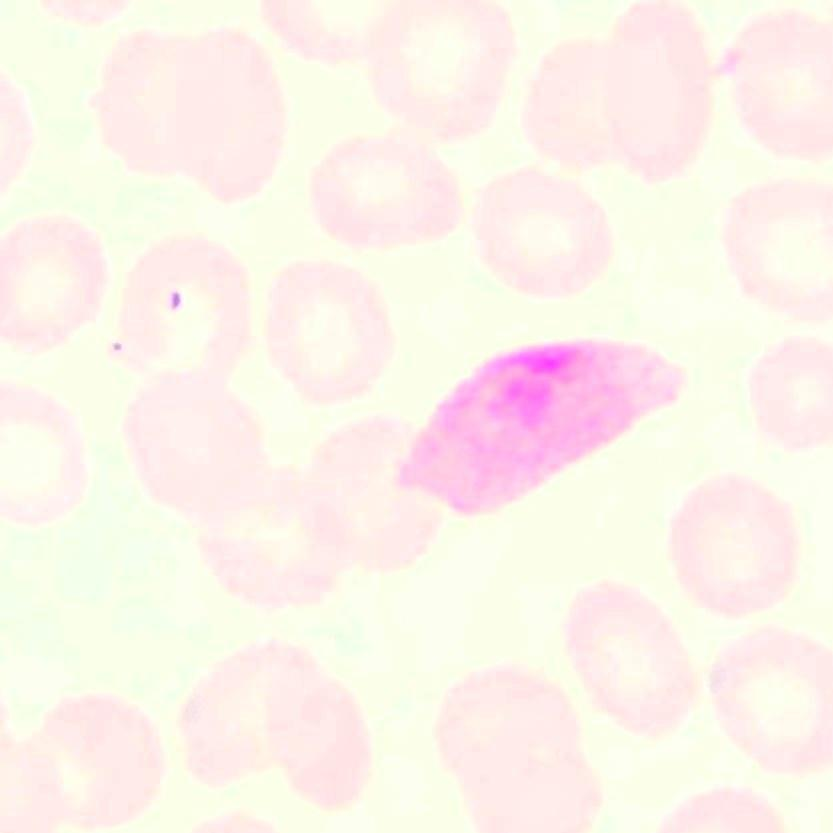Infected: (404, 335, 680, 521)
Uninfected: (95, 28, 285, 201), (436, 668, 601, 827), (124, 371, 275, 528), (298, 416, 438, 574), (203, 463, 347, 612), (364, 1, 513, 141), (591, 13, 713, 178), (565, 582, 696, 732), (116, 234, 253, 376), (310, 132, 460, 254), (24, 694, 163, 825), (263, 259, 391, 401), (670, 476, 792, 618), (182, 642, 296, 792), (710, 628, 829, 771), (721, 9, 830, 163), (264, 645, 363, 809), (478, 173, 608, 292), (723, 177, 830, 316), (525, 40, 636, 173), (1, 215, 106, 348), (4, 385, 89, 530), (750, 337, 833, 453)
